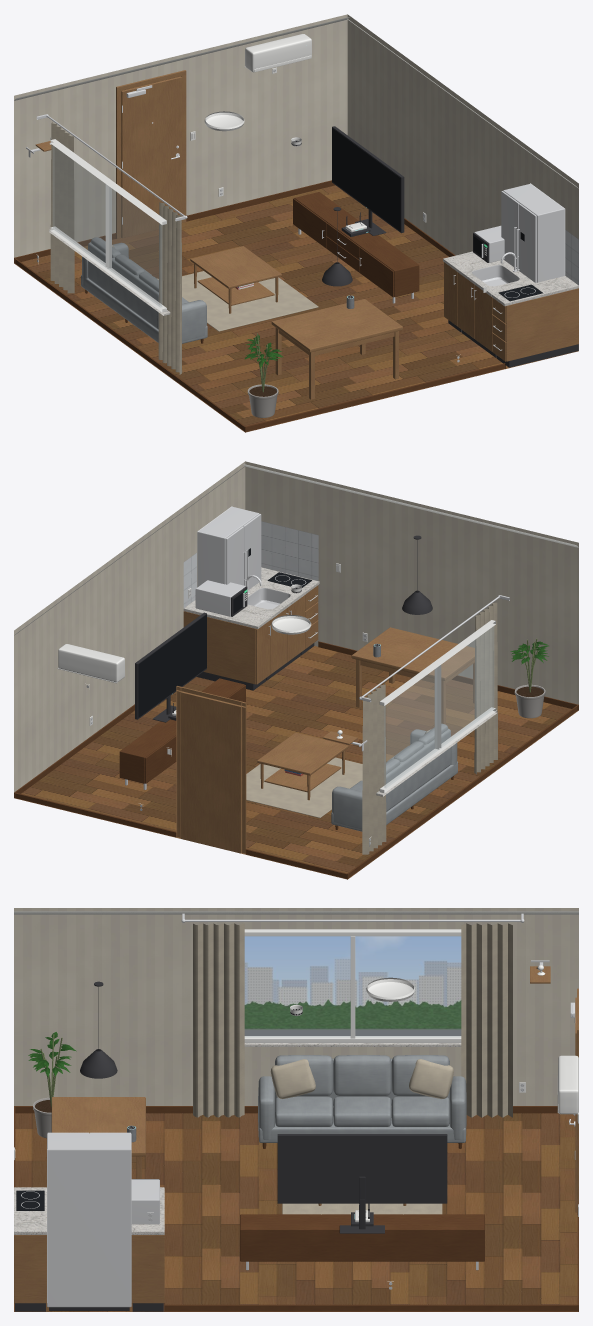
File: rc_home.glb
3 renders of one model, top to bottom at view 1: azimuth 30°, elevation 25°; view 2: azimuth 150°, elevation 25°; view 3: azimuth 270°, elevation 25°, orthographic. The views are drawn at different scales.
Visible parts, largest first — view 1: wall_z0, floor, wall_x1, f12_창, deco_door, f5_부엌 장, f3_TV 장, f9_식탁, f7_냉장고, f4_TV, deco_curtain_b, deco_rug (+17 smaller); view 2: wall_z1, floor, wall_x1, f12_창, deco_door, f5_부엌 장, f4_TV, f7_냉장고, f9_식탁, deco_curtain_a, f2_거실 탁자, deco_curtain_b (+19 smaller); view 3: floor, wall_x0, f12_창_view, f12_창, f7_냉장고, f4_TV, f3_TV 장, deco_curtain_b, deco_curtain_a, f0_소파, f1_소파 등, f5_부엌 장 (+13 smaller).
Part boxes in pixels (box(x1,y1,x2,y2)): wall_z0: box(14, 14, 347, 257); floor: box(15, 185, 578, 432); wall_x1: box(347, 14, 578, 350); f12_창: box(53, 146, 161, 307); deco_door: box(121, 76, 182, 238); f5_부엌 장: box(444, 262, 578, 367); f3_TV 장: box(293, 192, 419, 303); f9_식탁: box(271, 299, 402, 399); f7_냉장고: box(501, 183, 564, 282); f4_TV: box(332, 126, 404, 235); deco_curtain_b: box(158, 202, 182, 374); deco_rug: box(182, 271, 318, 331); wall_z1: box(245, 461, 578, 704); floor: box(21, 646, 577, 879); wall_x1: box(14, 461, 245, 792); f12_창: box(384, 626, 493, 788); deco_door: box(181, 692, 241, 853); f5_부엌 장: box(183, 585, 318, 690); f4_TV: box(135, 612, 206, 722); f7_냉장고: box(197, 506, 261, 589); f9_식탁: box(351, 627, 474, 724); deco_curtain_a: box(362, 683, 386, 854); f2_거실 탁자: box(257, 732, 348, 800); deco_curtain_b: box(474, 602, 497, 774); floor: box(14, 1113, 577, 1311); wall_x0: box(14, 908, 578, 1105); f12_창_view: box(244, 936, 461, 1035); f12_창: box(245, 937, 460, 1036); f7_냉장고: box(47, 1132, 131, 1310); f4_TV: box(277, 1134, 447, 1233); f3_TV 장: box(240, 1214, 484, 1270); deco_curtain_b: box(193, 923, 244, 1117); deco_curtain_a: box(461, 923, 512, 1117); f0_소파: box(258, 1076, 466, 1148); f1_소파 등: box(270, 1055, 453, 1105); f5_부엌 장: box(14, 1235, 164, 1311).
Size of the model in its own units: 5 by 2.4 by 6.
37 materials, 15 textured.
